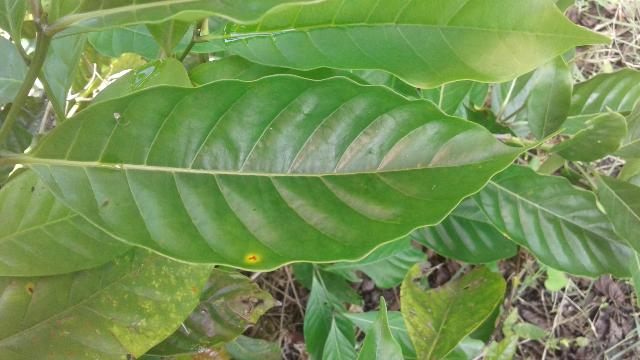rust_level_1: (27, 75, 561, 271)
